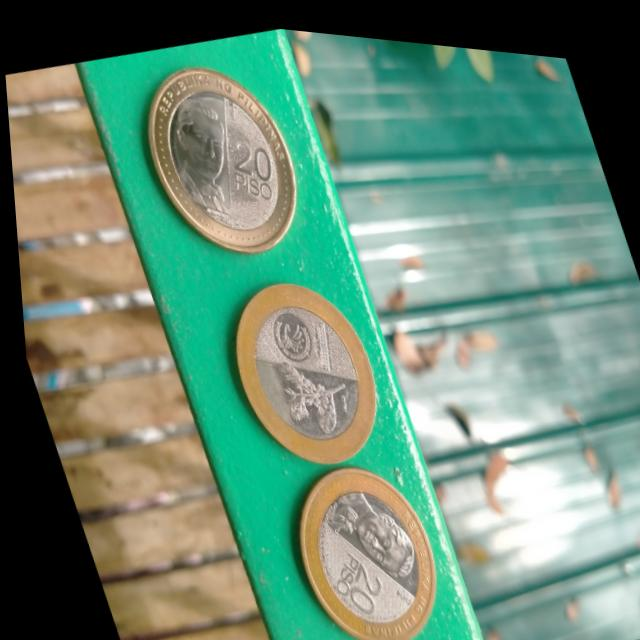20_New_Back: (251, 342, 357, 441)
20_New_Front: (310, 532, 392, 630), (213, 123, 282, 206)
